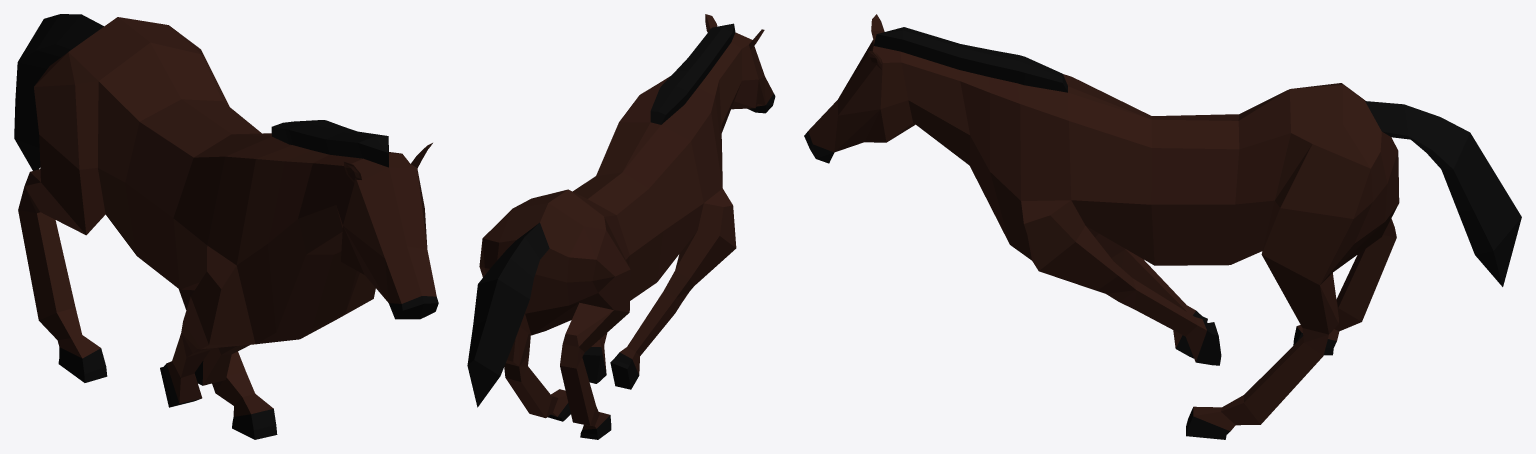
File: Horse_000004.obj
3 views of the same model, side by side, from view 1: azimuth 30°, elevation 25°; view 2: azimuth 150°, elevation 25°; view 3: azimuth 270°, elevation 25° (orthographic). The views are drawn at different scales.
Parts seen in each view (by area): view 1: Horse_Cylinder; view 2: Horse_Cylinder; view 3: Horse_Cylinder.
Boxes of the visible parts, box(x1,y1,x2,y2) form: Horse_Cylinder: box(14, 14, 438, 439); Horse_Cylinder: box(467, 14, 775, 439); Horse_Cylinder: box(804, 14, 1521, 439).
Bounding box in the file's own units: 2.58 × 5.95 × 10.15.
